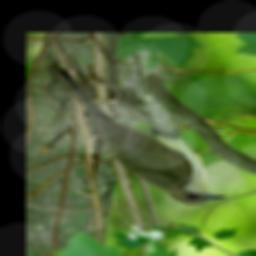Cuckoo: (45, 59, 227, 206)
